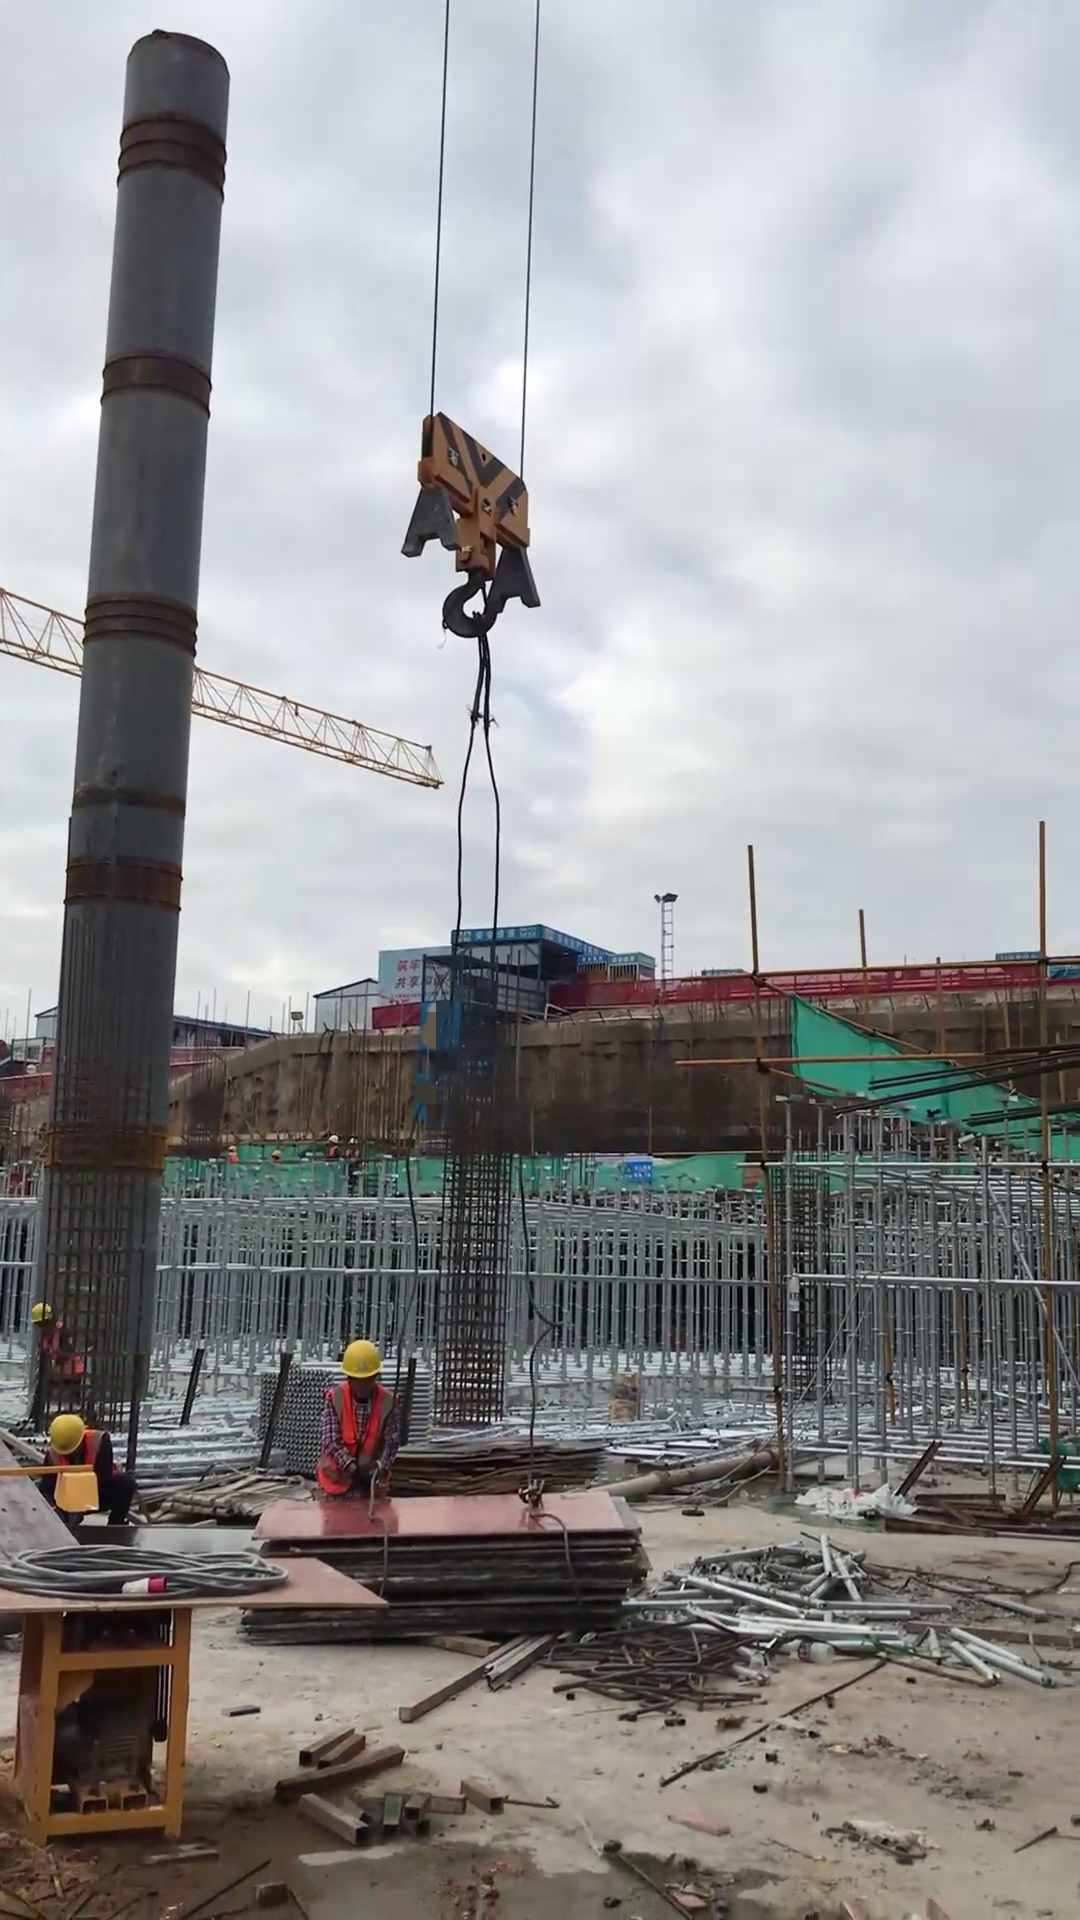board: (240, 1482, 661, 1663), (397, 1408, 628, 1517)
cutter: (1, 1529, 340, 1865)
fence: (602, 967, 1054, 996)
helmet: (333, 1332, 390, 1397), (37, 1408, 90, 1466)
hook: (402, 403, 549, 658)
person: (311, 1335, 419, 1511), (26, 1408, 137, 1539)
scaffold: (249, 1356, 339, 1475)
vest: (319, 1379, 394, 1494)
